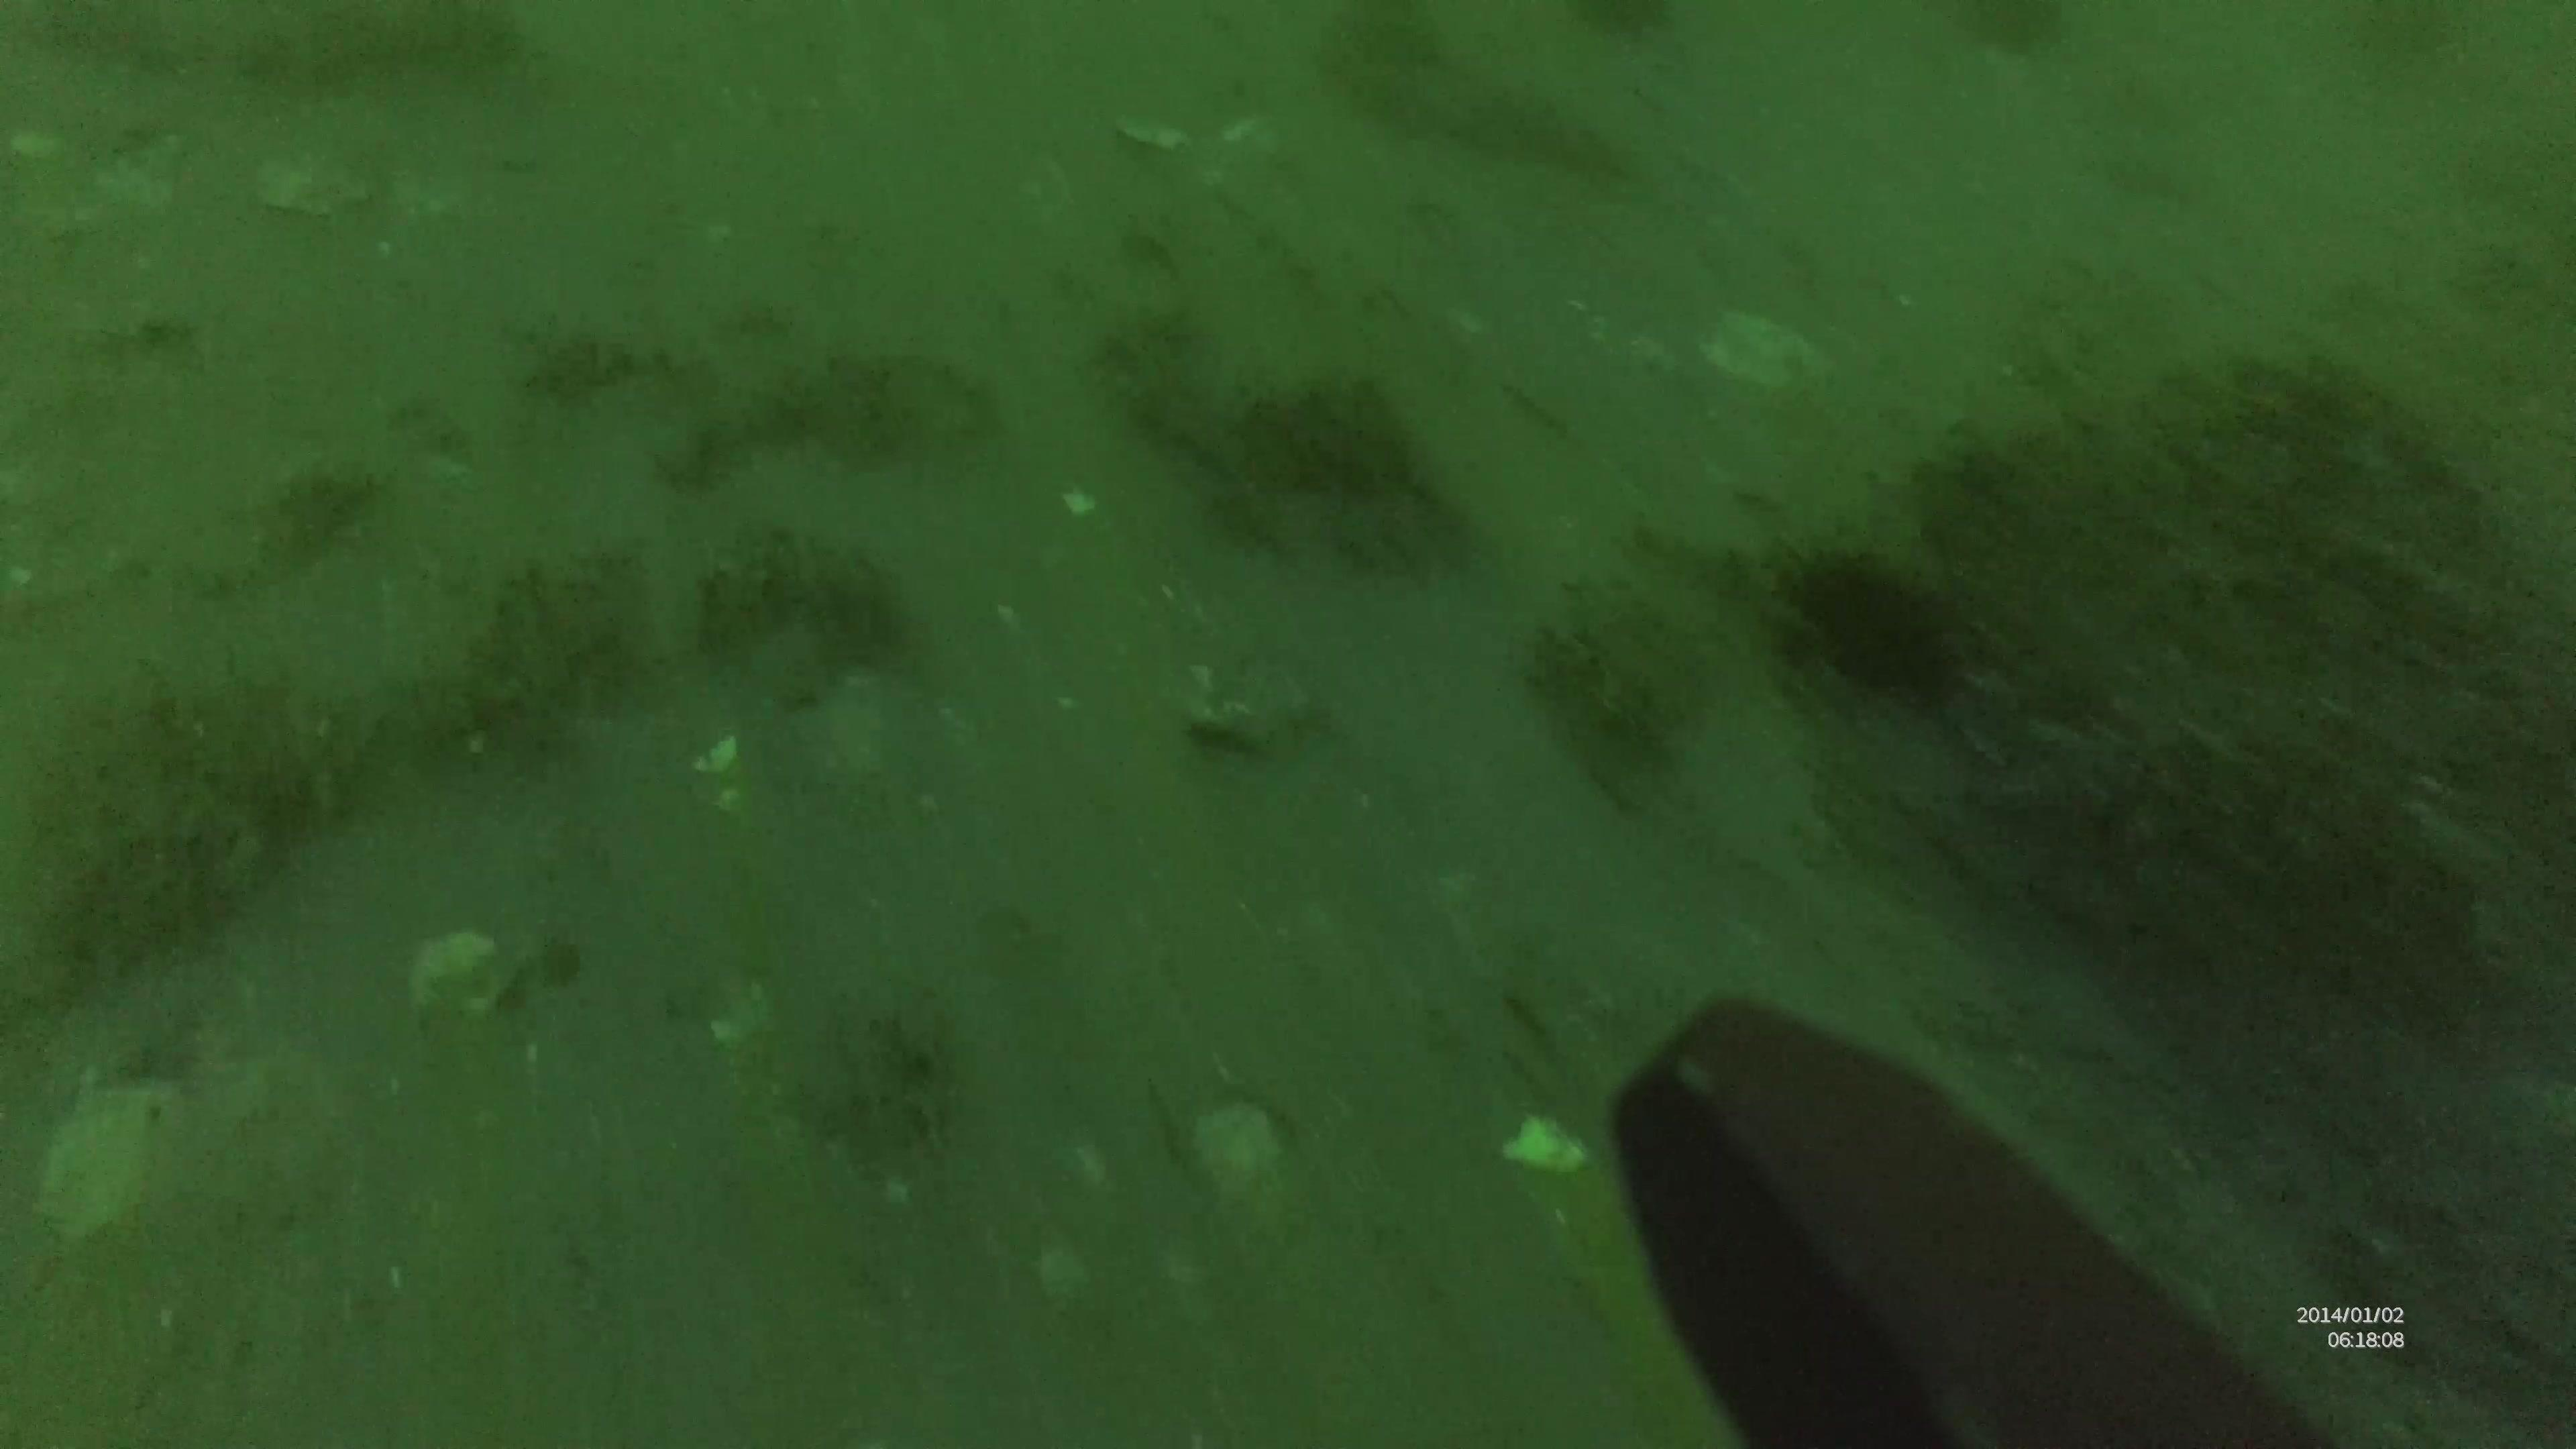echinus: (1785, 534, 1960, 708)
